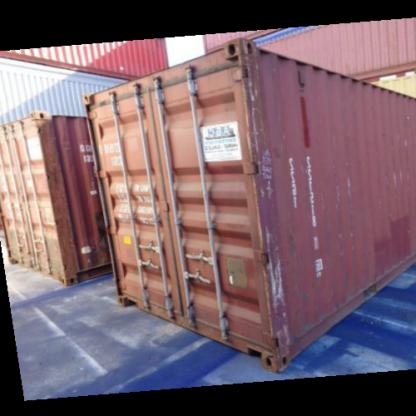Damage: (265, 254, 290, 309), (236, 38, 275, 73), (267, 312, 292, 347), (242, 80, 270, 102), (246, 115, 265, 143), (338, 175, 355, 206), (387, 169, 413, 185), (336, 227, 358, 244), (398, 130, 410, 158)
